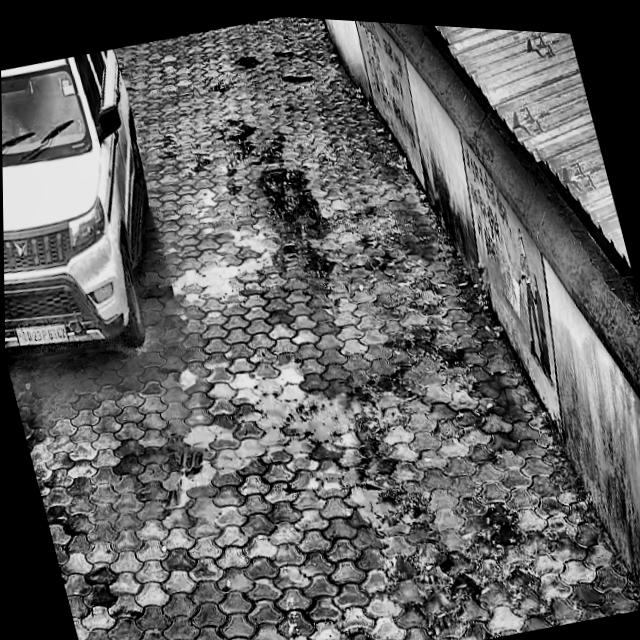light_vehicle: (0, 41, 187, 367)
